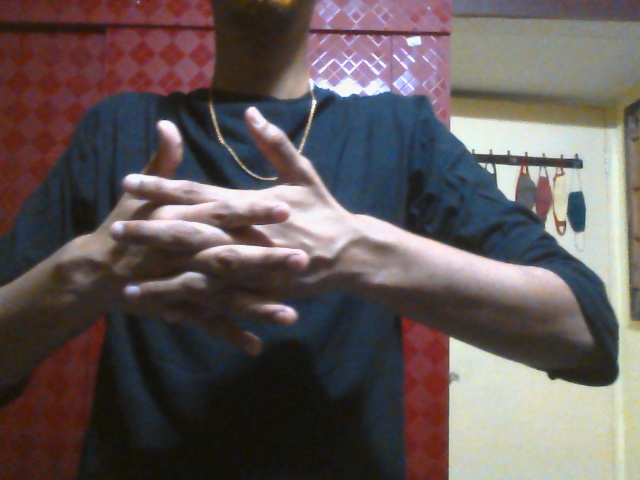W: (94, 106, 362, 356)
